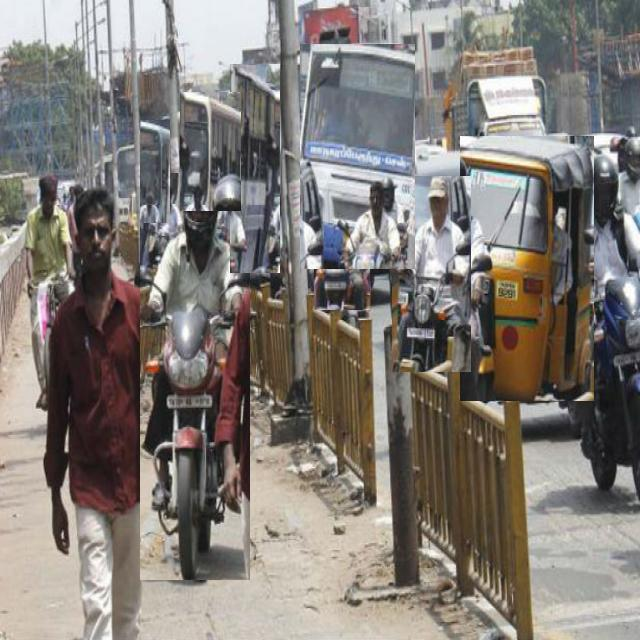autorickshaw: (460, 136, 594, 401)
bus: (300, 44, 414, 269), (230, 64, 280, 273), (180, 92, 240, 211), (140, 120, 170, 223)
car: (392, 152, 462, 245)
motorcycle: (140, 174, 250, 580), (562, 154, 640, 496), (392, 176, 470, 372), (314, 180, 370, 310)
truck: (452, 46, 546, 147)
